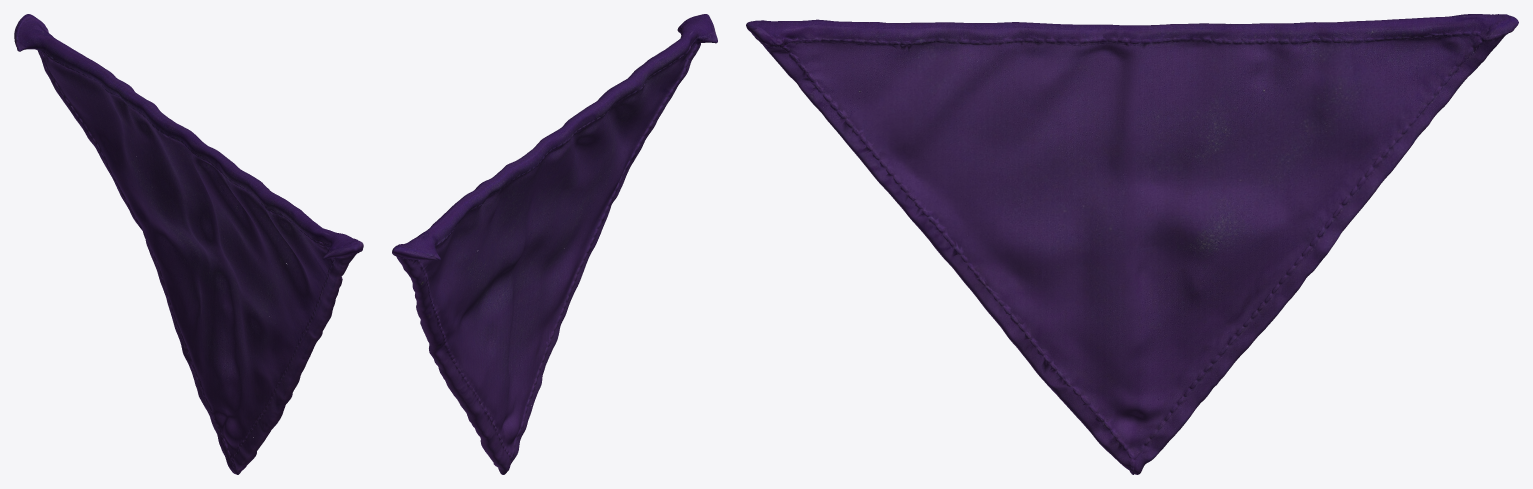
The model's file is PANOLETA.glb.
3 renders of one model, left to right at view 1: azimuth 30°, elevation 25°; view 2: azimuth 150°, elevation 25°; view 3: azimuth 270°, elevation 25°, orthographic. The views are drawn at different scales.
Visible parts, largest first — view 1: tripo_node_9e957c9c-b2d7-46f5-9e34-dba69e04c343; view 2: tripo_node_9e957c9c-b2d7-46f5-9e34-dba69e04c343; view 3: tripo_node_9e957c9c-b2d7-46f5-9e34-dba69e04c343.
Boxes of the visible parts, x1,y1,x2,y2 form: tripo_node_9e957c9c-b2d7-46f5-9e34-dba69e04c343: (14, 14, 363, 474); tripo_node_9e957c9c-b2d7-46f5-9e34-dba69e04c343: (392, 14, 717, 474); tripo_node_9e957c9c-b2d7-46f5-9e34-dba69e04c343: (746, 14, 1518, 474).
Bounding box in the file's own units: 0.1475 × 0.5986 × 0.9805.
1 material, 1 textured.
